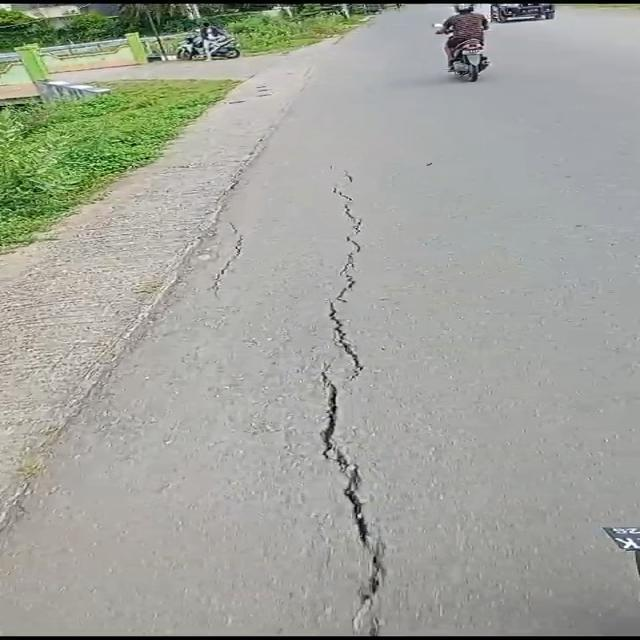Memanjang: (308, 165, 400, 638)
